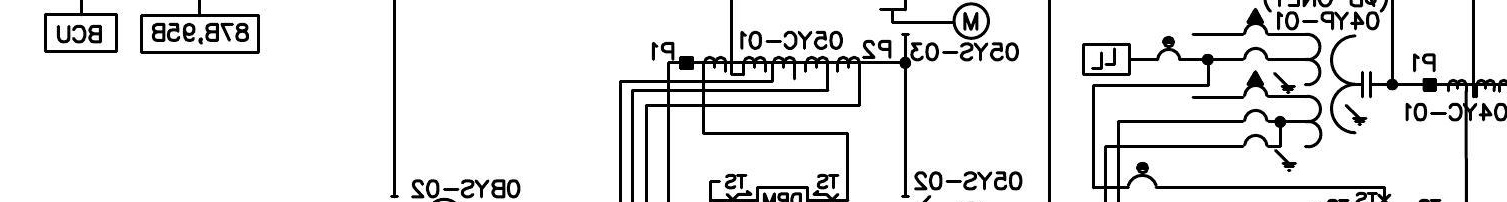115_1way_ds_w_motor: (878, 1, 991, 41)
115_cvt_1p: (1240, 7, 1373, 172)
BCU: (43, 12, 119, 54)
LL: (1081, 42, 1132, 77)
